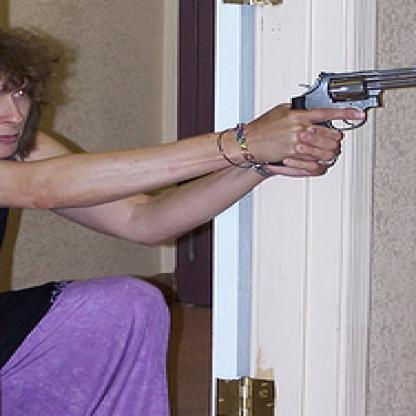gun: (281, 53, 414, 156)
